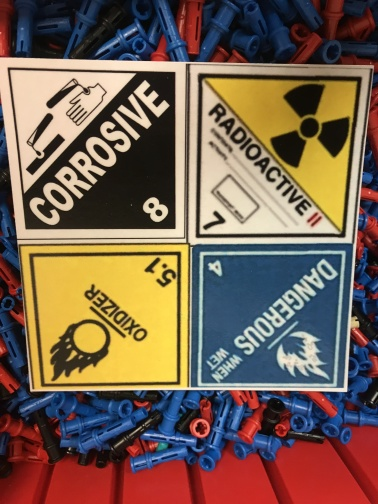Corrosive: (2, 57, 188, 240)
DangerousWhenWet: (192, 244, 346, 389)
Oxidizer: (20, 245, 192, 389)
Radioactive: (189, 63, 358, 242)
